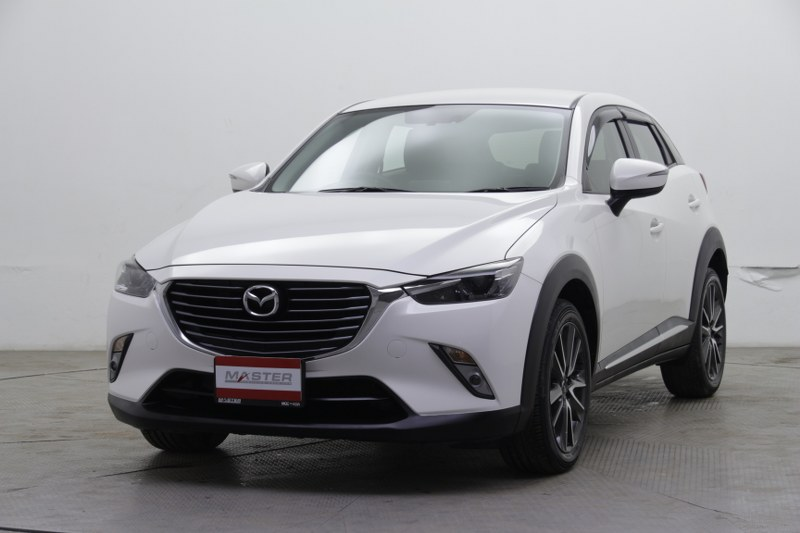pickup: (104, 86, 728, 476)
